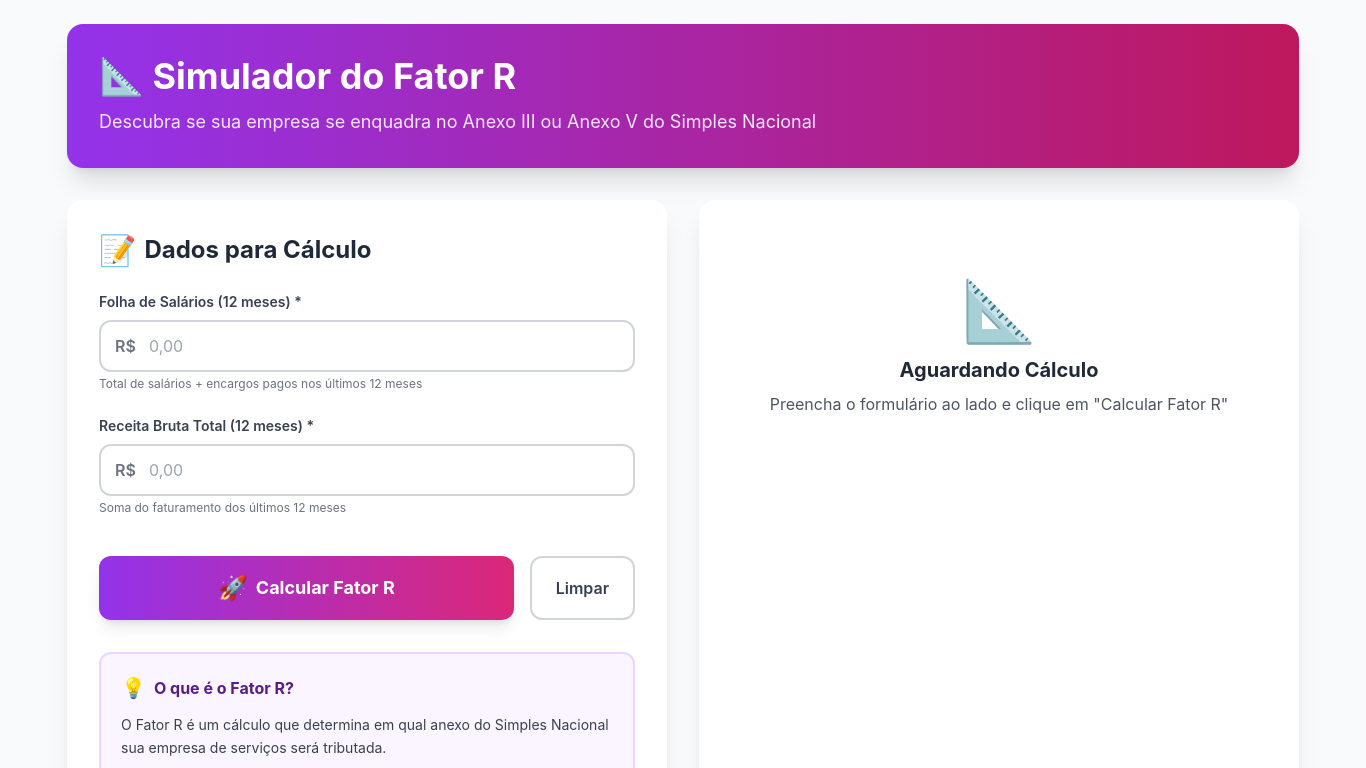
Test case: SimuladorFatorR - Testes de UI › Dado botão Limpar › Quando clicar em Limpar, Então deve resetar formulário
Type "200000" into the number field with placeholder "0,00" below "Folha de Salários (12 meses) *".
click(367, 346); type("200000")  # box [99,320,635,372]
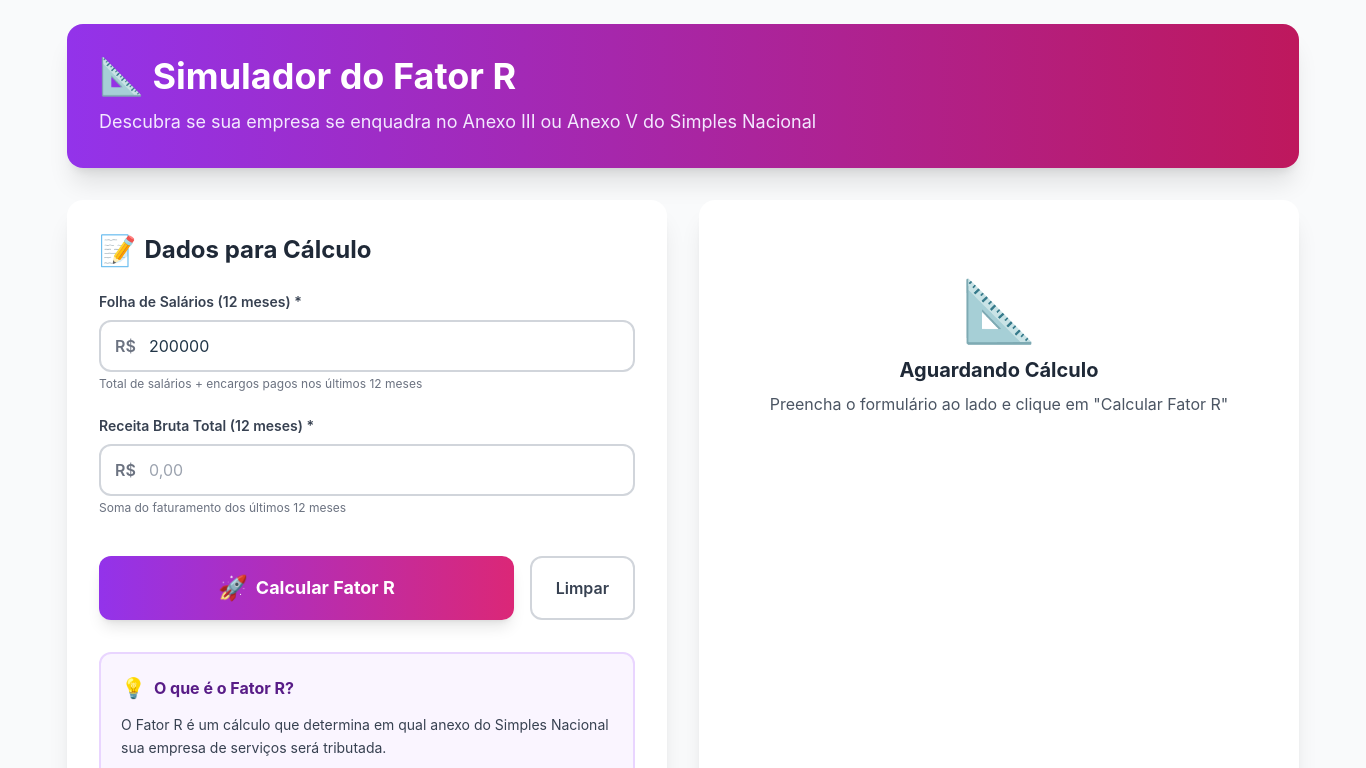
Type "800000" into the number field with placeholder "0,00".
click(367, 470); type("800000")  # box [99,444,635,496]
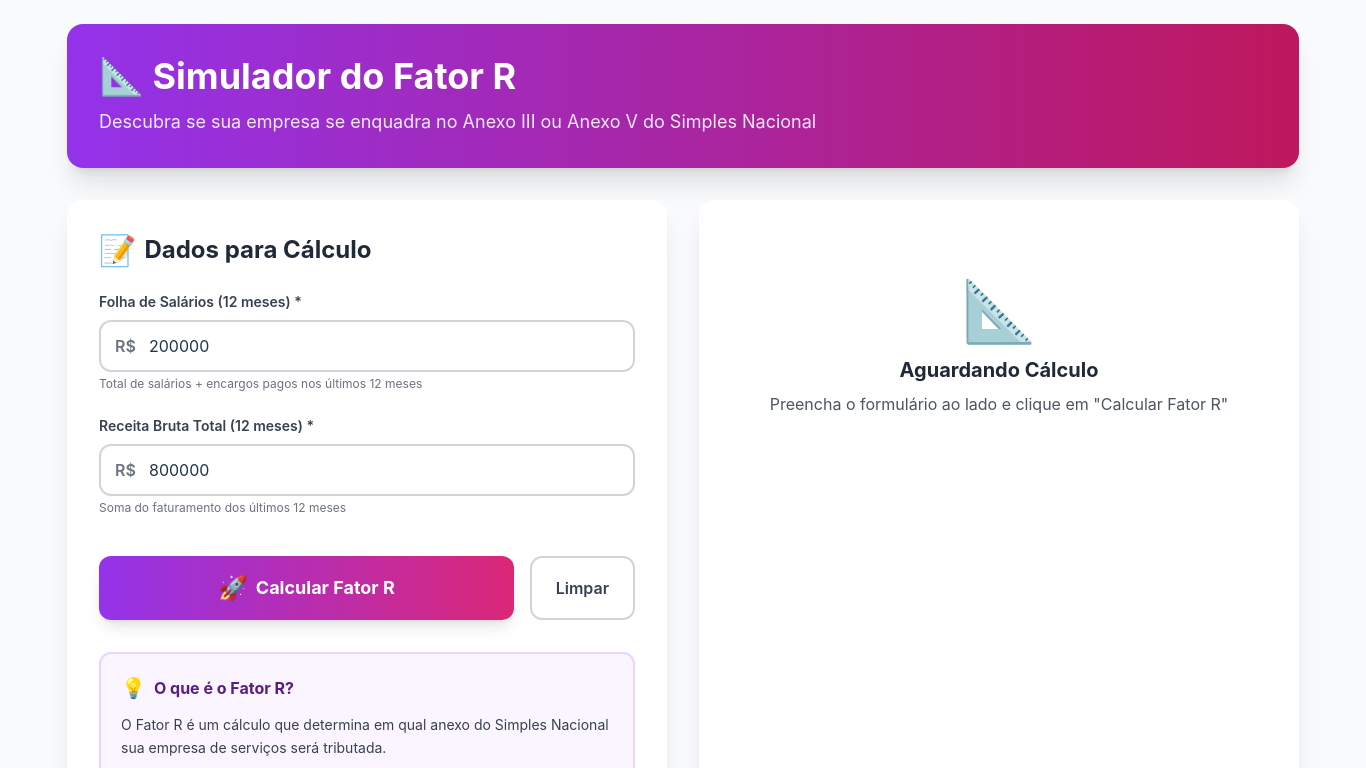
Click the button "Limpar".
click(582, 588)  # box [530,556,635,620]
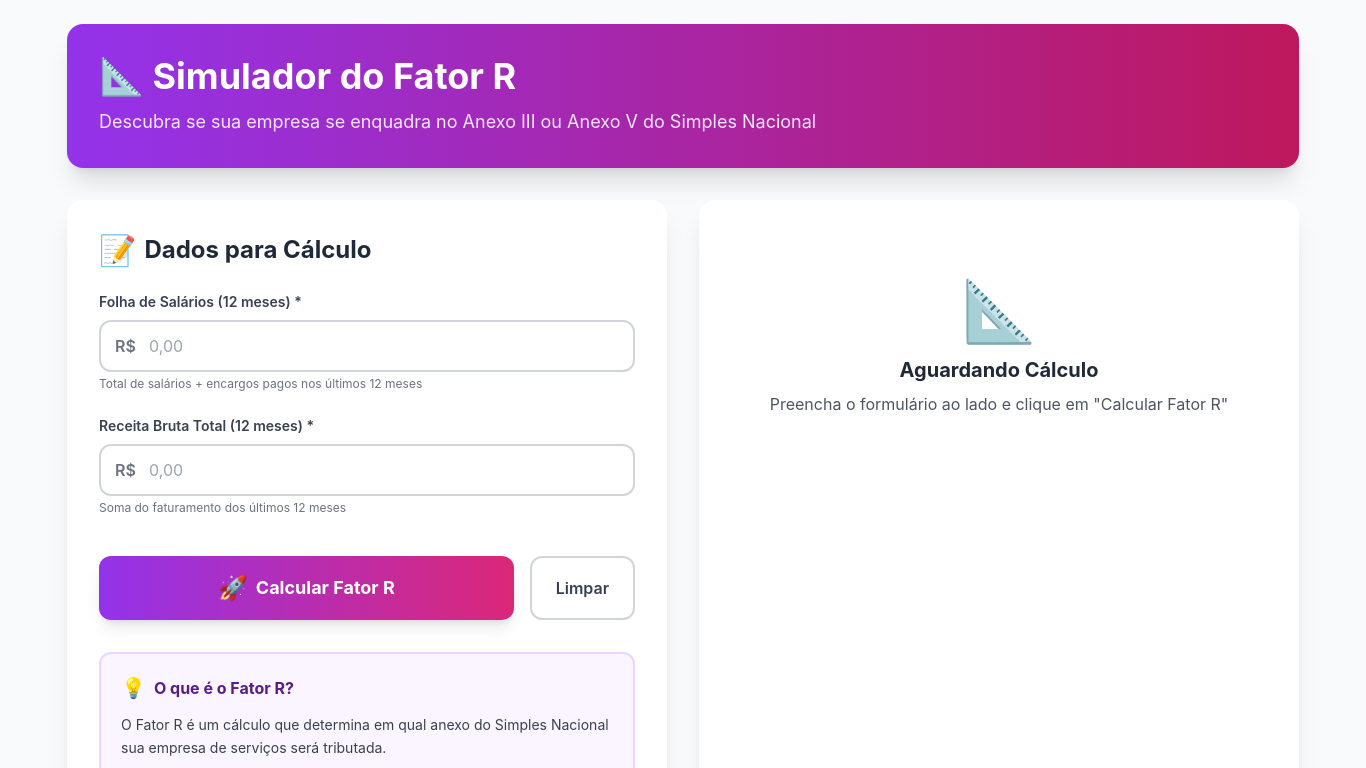
Expected: the number field with placeholder "0,00" below "Folha de Salários (12 meses) *" is empty, [99,320,635,372]
Expected: the number field with placeholder "0,00" below "Receita Bruta Total (12 meses) *" is empty, [99,444,635,496]
